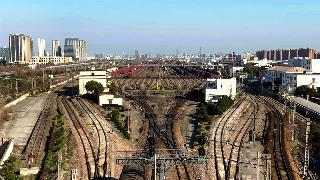train: (192, 82, 207, 95)
